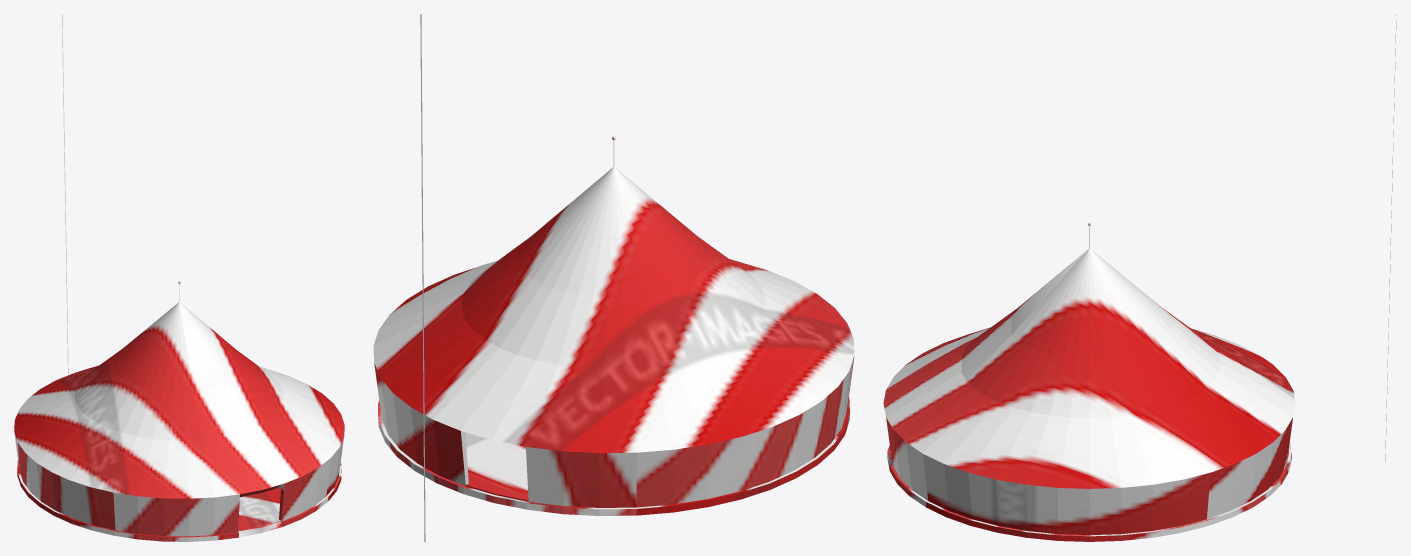
3 views of the same model, side by side, from view 1: azimuth 30°, elevation 25°; view 2: azimuth 150°, elevation 25°; view 3: azimuth 270°, elevation 25° (orthographic). The views are drawn at different scales.
Visible parts, largest first — view 1: Circus Tent, Плоскость; view 2: Circus Tent, Плоскость; view 3: Circus Tent.
Part boxes in pixels (x1,y1,x2,y2): Circus Tent: (14, 281, 344, 541); Плоскость: (62, 14, 68, 375); Circus Tent: (373, 136, 854, 515); Плоскость: (420, 14, 425, 541); Circus Tent: (883, 222, 1295, 541).
Bounding box in the file's own units: 25.91 × 31.79 × 32.86.
2 materials, 1 textured.
